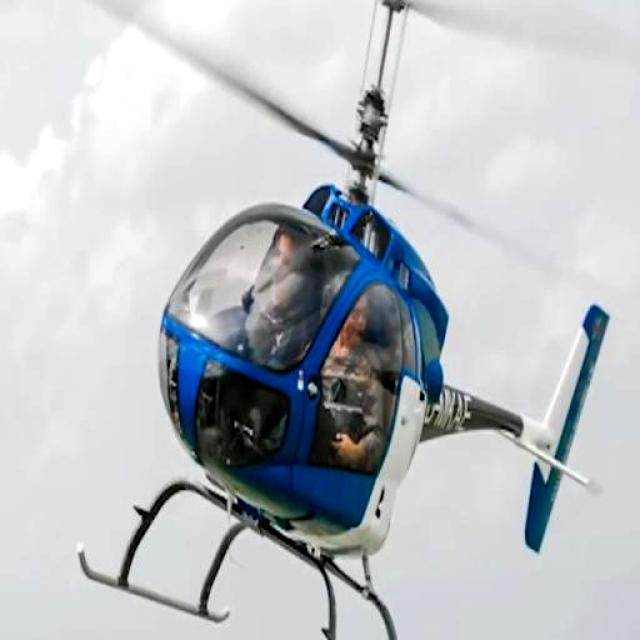drone: (92, 0, 608, 640)
